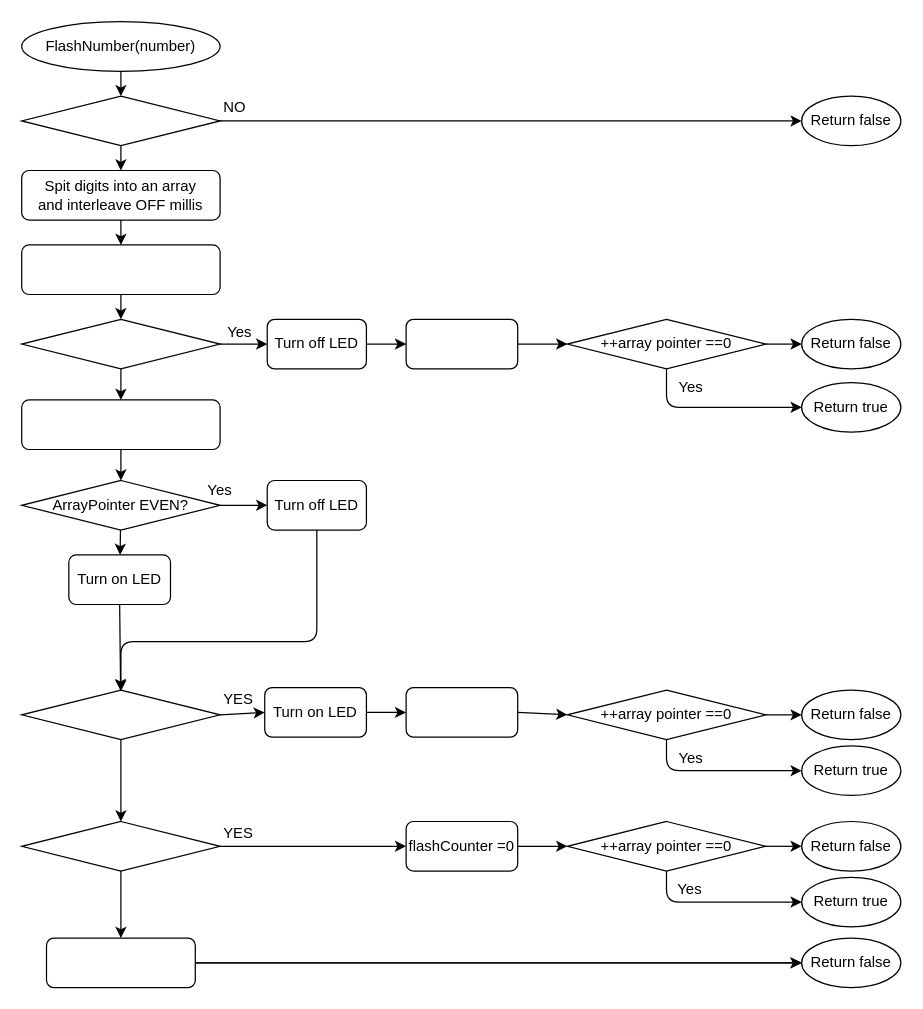
Image size: 923x1009. Some labels were removed from this diagram. Here are the shapes that lost their labels. From the top down, the centre of each, then its label:
At [120,120]: "timed out?".
At [120,269]: "Calculate and set the start offset for auto width".
At [120,343]: "ms <0 (i.e. a gap)".
At [461,343]: "set ms, flashCounter=0".
At [120,424]: "Increment flash counter".
At [120,714]: "Digit == Zero?".
At [461,711]: "ms = 1000ms flashCounter=0".
At [120,845]: "Done enough flashes?".
At [120,962]: "Inter flash pause Set timer to 200".
